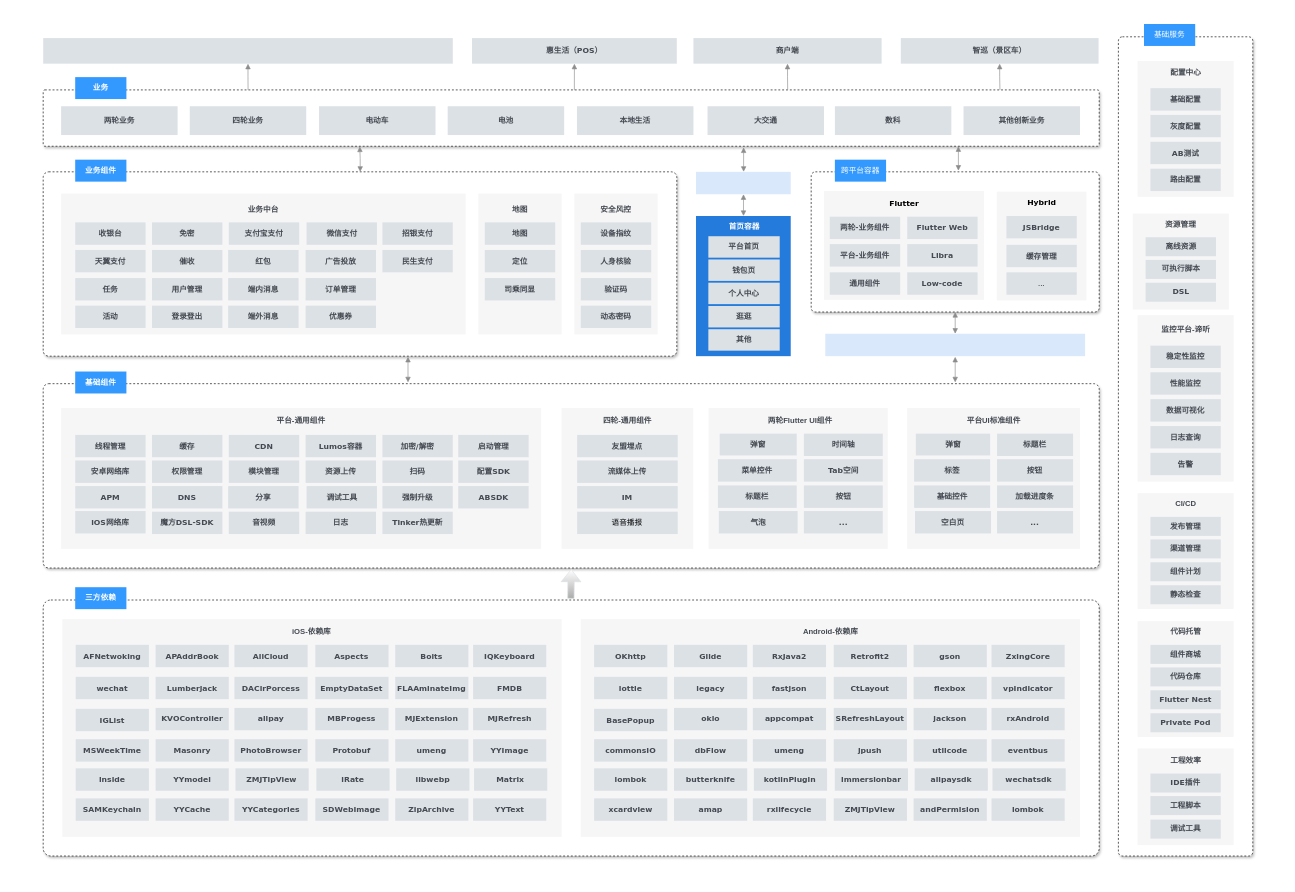
The diagram is 1295 pixels wide and 892 high, and some of its shapes have lost their labels. Here are the shapes that lost their labels. From the top down, the centre of each, then its label:
At point (247, 50): "哈啰出行".
At point (743, 183): "ROUTER".
At point (955, 344): "SPARROW".
